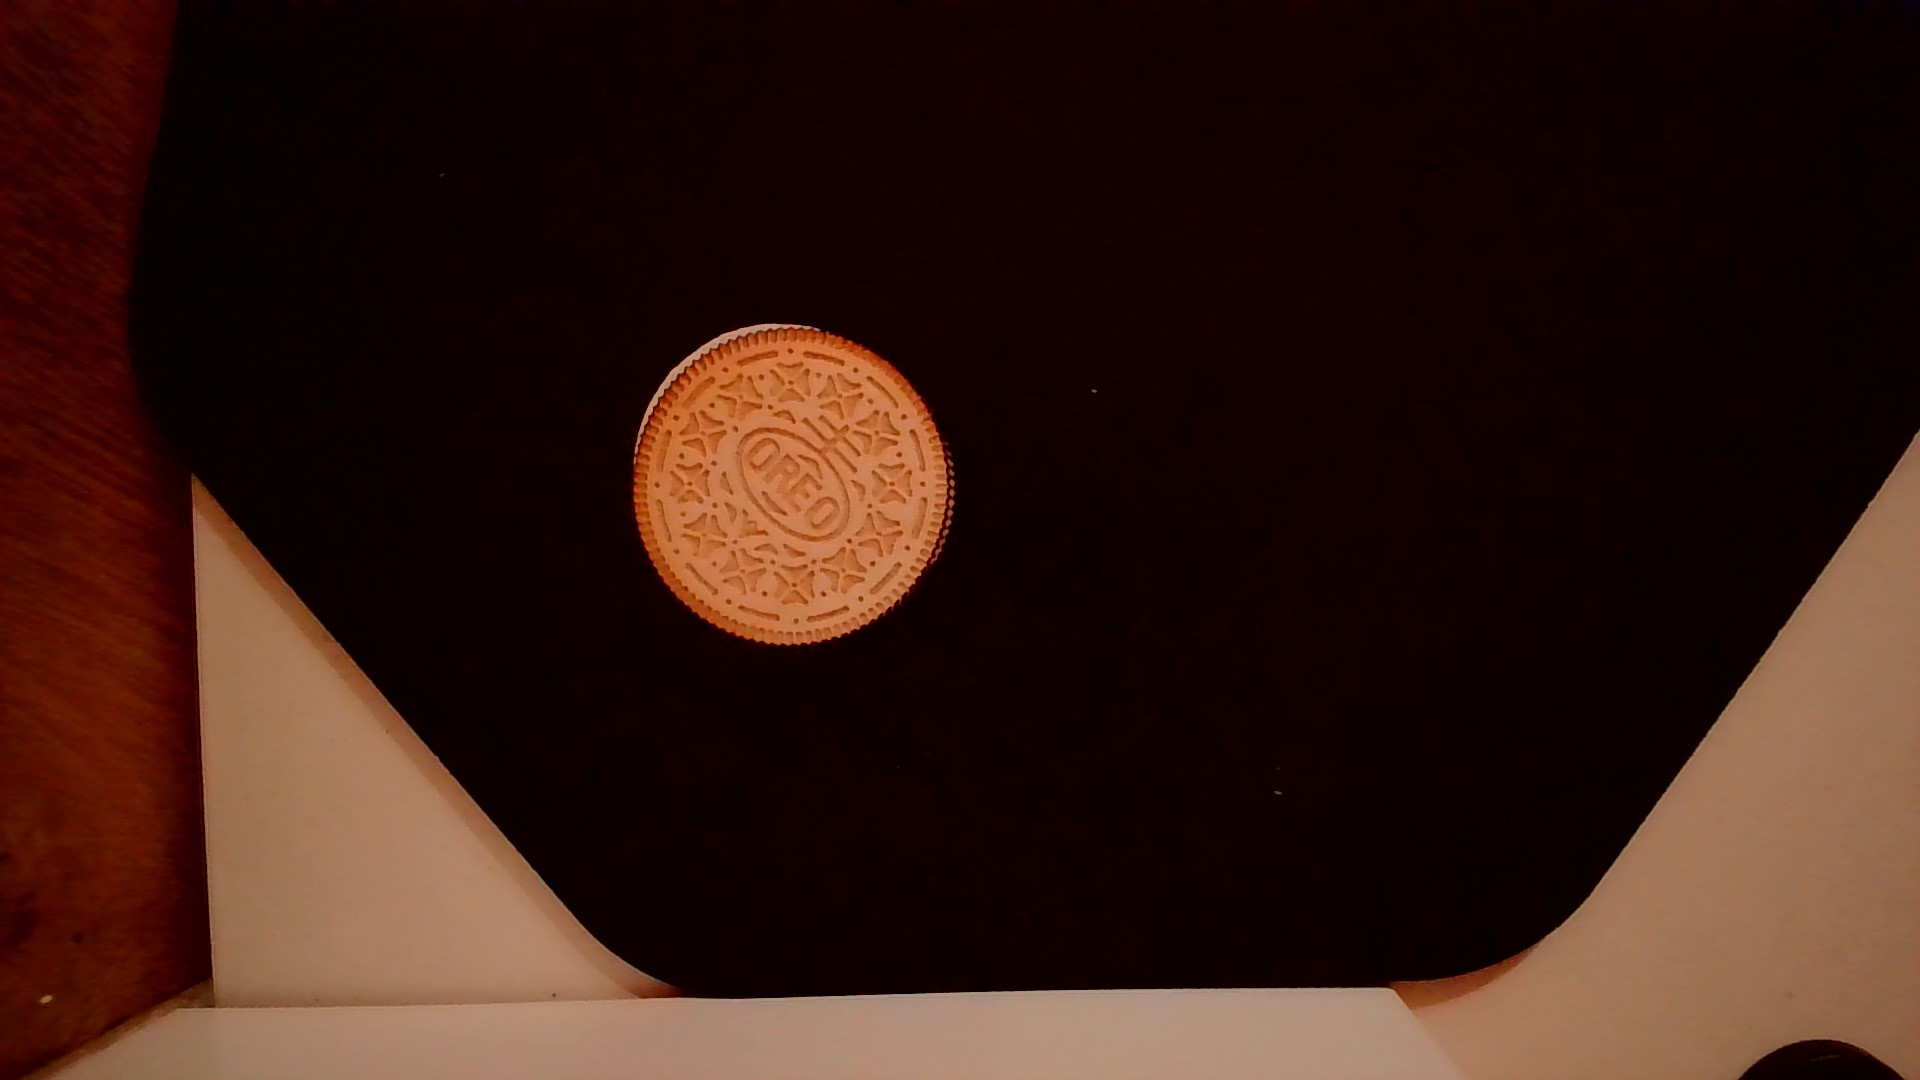Décalé: (630, 315, 825, 477)
Oréo: (618, 320, 963, 653)
